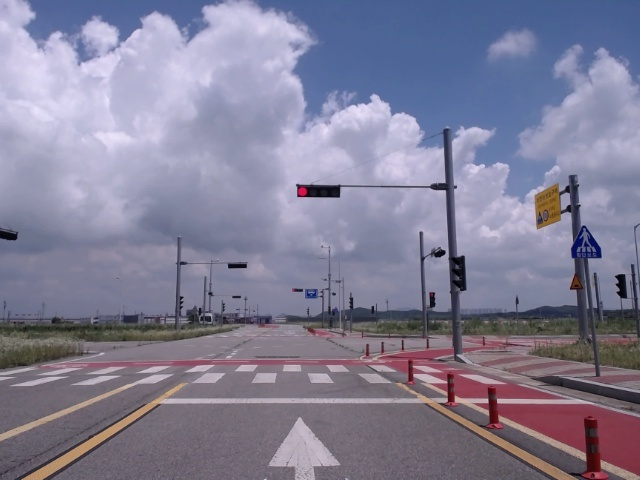red_4: (297, 186, 340, 198)
